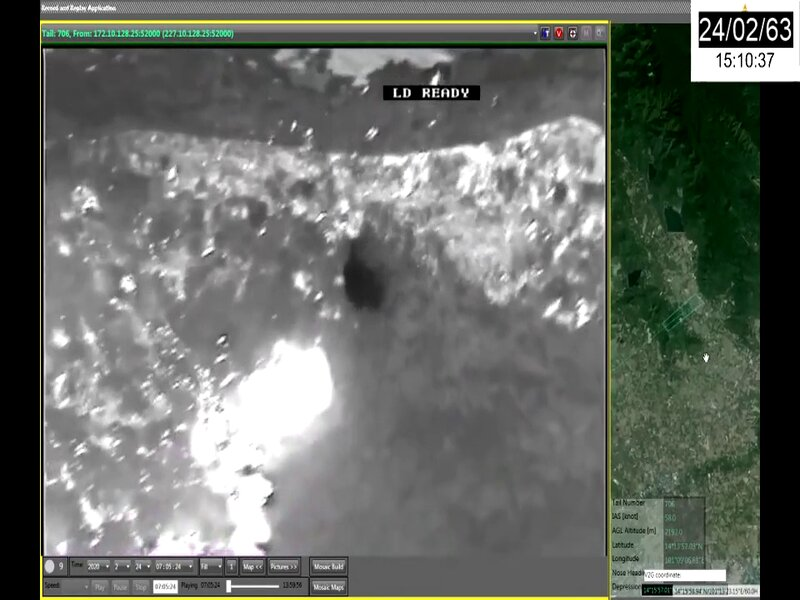Fire: (151, 339, 335, 555)
